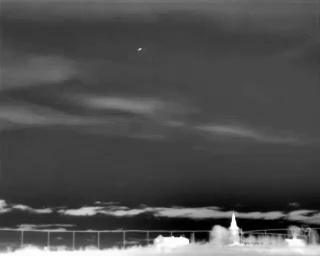AIRPLANE: (136, 45, 144, 53)
